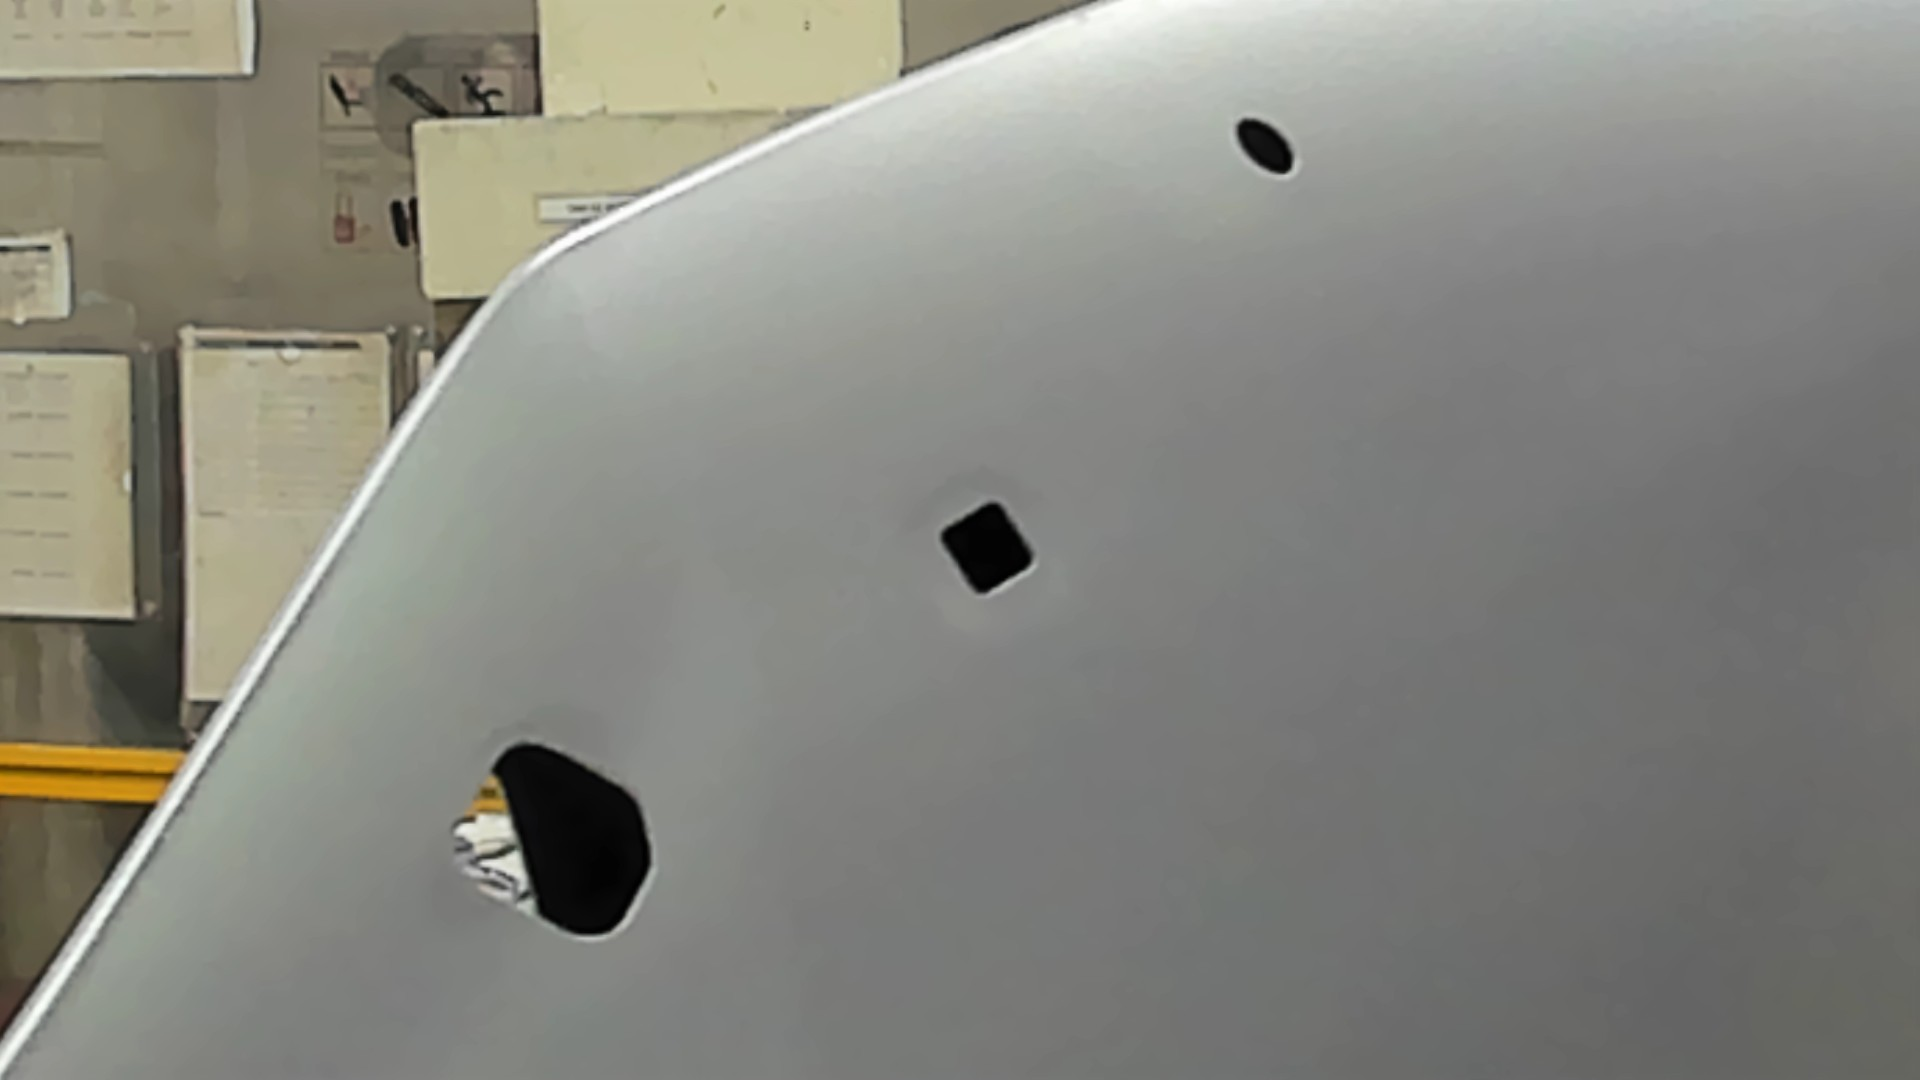chico: (1233, 113, 1302, 179)
grande: (446, 738, 659, 944)
mediano: (934, 496, 1040, 605)
